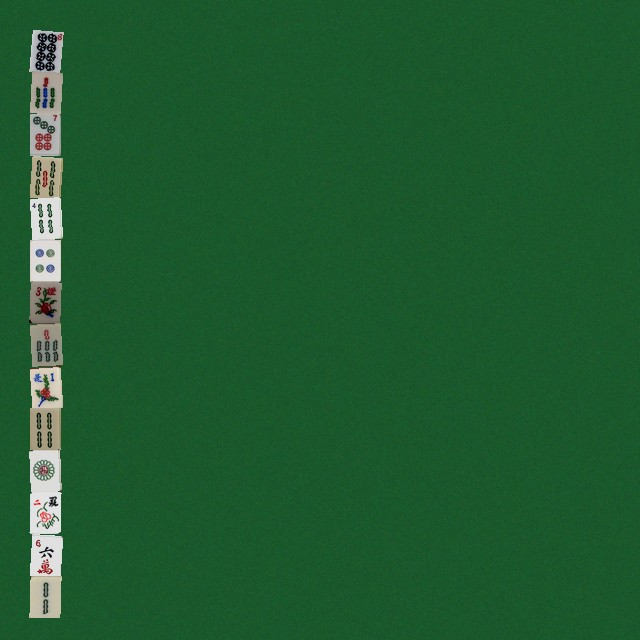tile: (29, 29, 60, 71), (29, 71, 60, 113), (29, 113, 60, 155), (29, 155, 60, 197), (29, 197, 60, 239), (29, 239, 60, 281), (29, 281, 60, 323), (29, 323, 60, 365), (29, 365, 60, 407), (29, 407, 60, 449), (29, 449, 60, 491), (29, 491, 60, 533), (29, 533, 60, 575), (29, 575, 60, 617)
